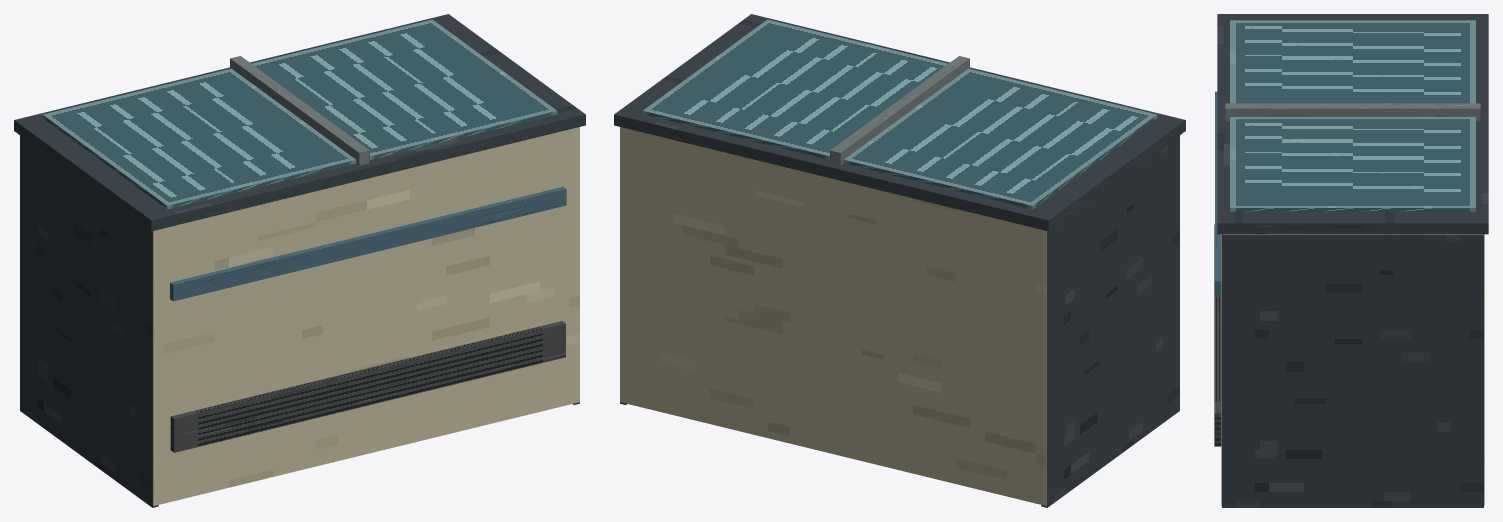
Rendered from congelador_horizontal_c02.glb.
The picture shows the model from 3 angles, left to right: view 1: azimuth 30°, elevation 25°; view 2: azimuth 150°, elevation 25°; view 3: azimuth 270°, elevation 25°; orthographic projection.
Parts seen in each view (by area): view 1: congelador_horizontal_c02; view 2: congelador_horizontal_c02; view 3: congelador_horizontal_c02.
Boxes of the visible parts, <box> form: congelador_horizontal_c02: <box>14,14,585,507</box>; congelador_horizontal_c02: <box>614,14,1185,507</box>; congelador_horizontal_c02: <box>1214,14,1488,507</box>.
Bounding box in the file's own units: 1.51 × 1.01 × 0.8382.
1 material, 1 textured.
